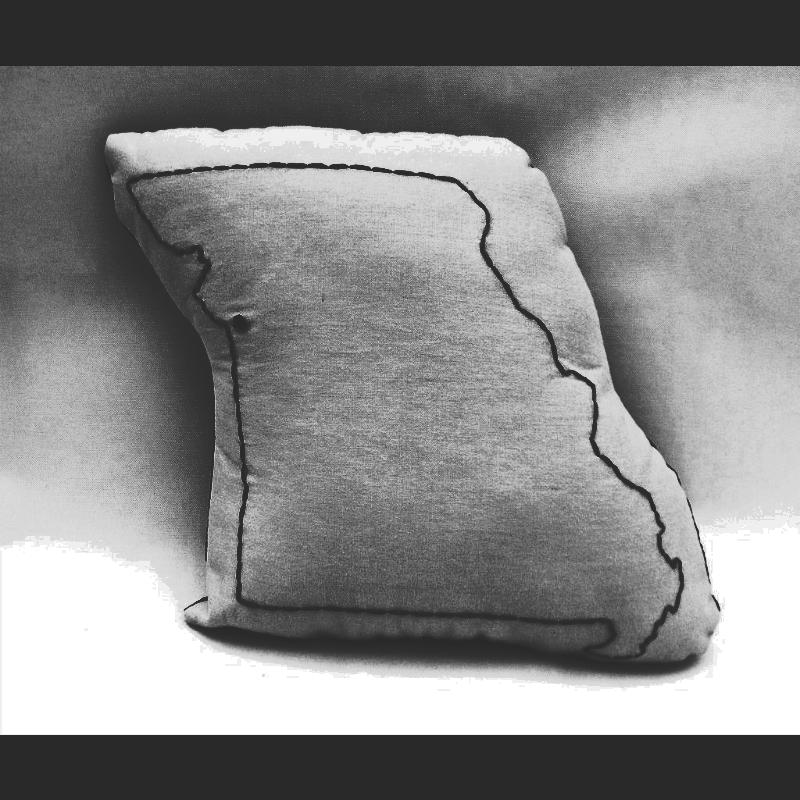pillow: (85, 130, 738, 688)
